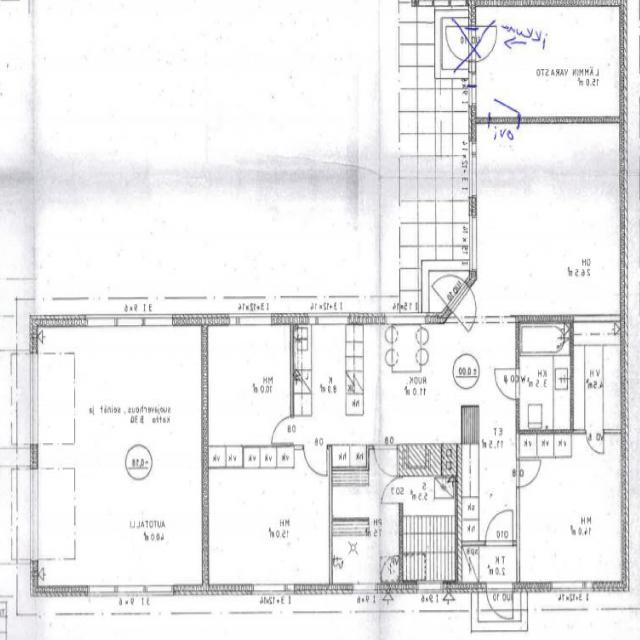door: (446, 280, 490, 335), (428, 257, 470, 313), (489, 78, 519, 124), (487, 580, 513, 626), (4, 406, 38, 441), (485, 504, 513, 546), (492, 368, 520, 399), (374, 443, 398, 479), (304, 444, 327, 478), (517, 460, 541, 487), (271, 416, 294, 443), (380, 478, 403, 502), (586, 429, 604, 455)
